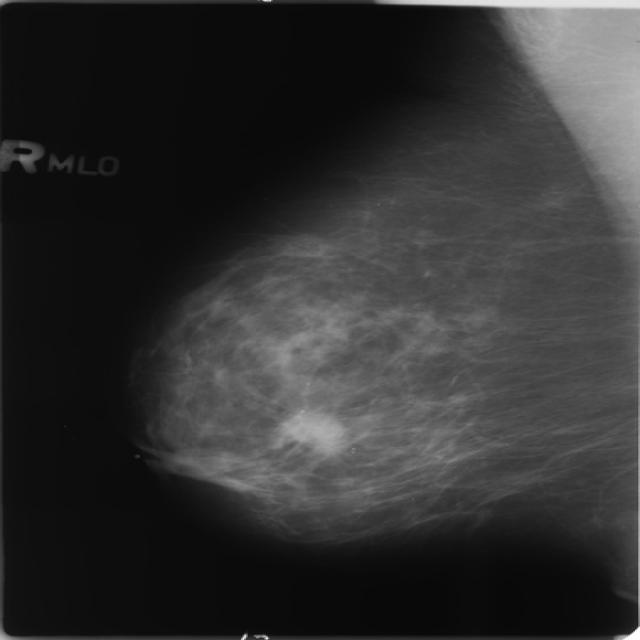tumour: (276, 407, 349, 455)
